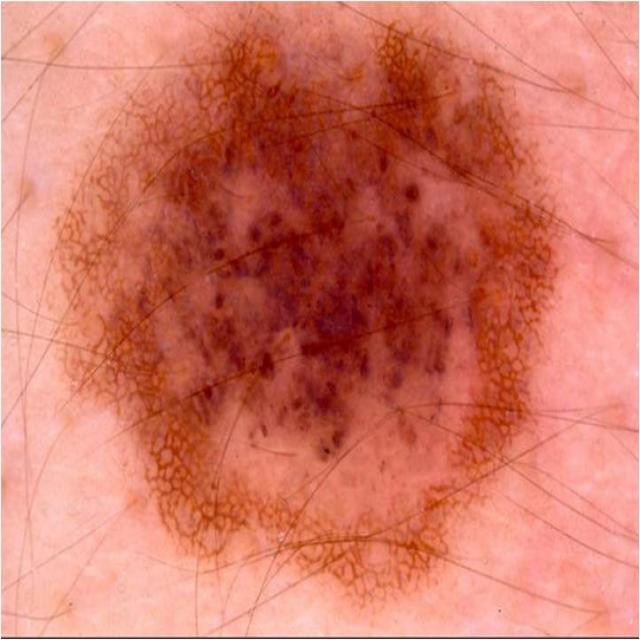Benign: (42, 5, 566, 606)
